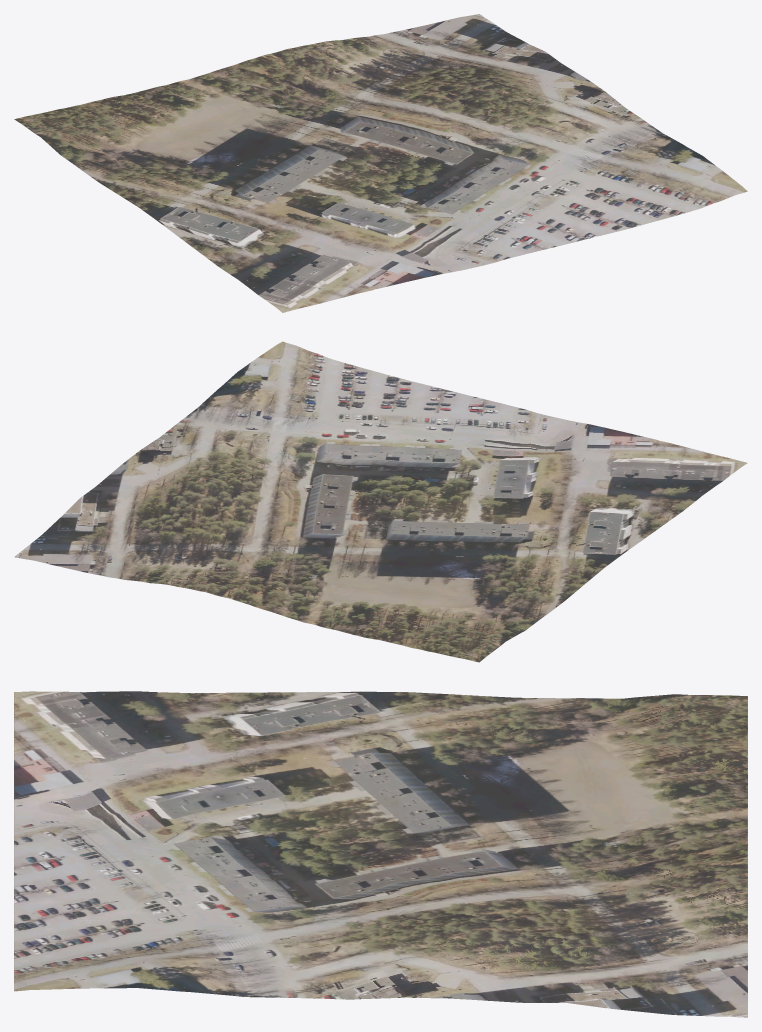
File: CM_Terrain_24491482_6816108.fbx
The picture shows the model from 3 angles, top to bottom: view 1: azimuth 30°, elevation 25°; view 2: azimuth 150°, elevation 25°; view 3: azimuth 270°, elevation 25°; orthographic projection. The views are drawn at different scales.
Visible parts, largest first — view 1: CM_Terrain_24491482_6816108_LOD0; view 2: CM_Terrain_24491482_6816108_LOD0; view 3: CM_Terrain_24491482_6816108_LOD0.
Part boxes in pixels (box(x1,y1,x2,y2)): CM_Terrain_24491482_6816108_LOD0: box(14, 14, 747, 312); CM_Terrain_24491482_6816108_LOD0: box(14, 341, 747, 662); CM_Terrain_24491482_6816108_LOD0: box(14, 691, 747, 1017).
Size of what is drawn, in the model's own units: 205 by 9.23 by 205.
